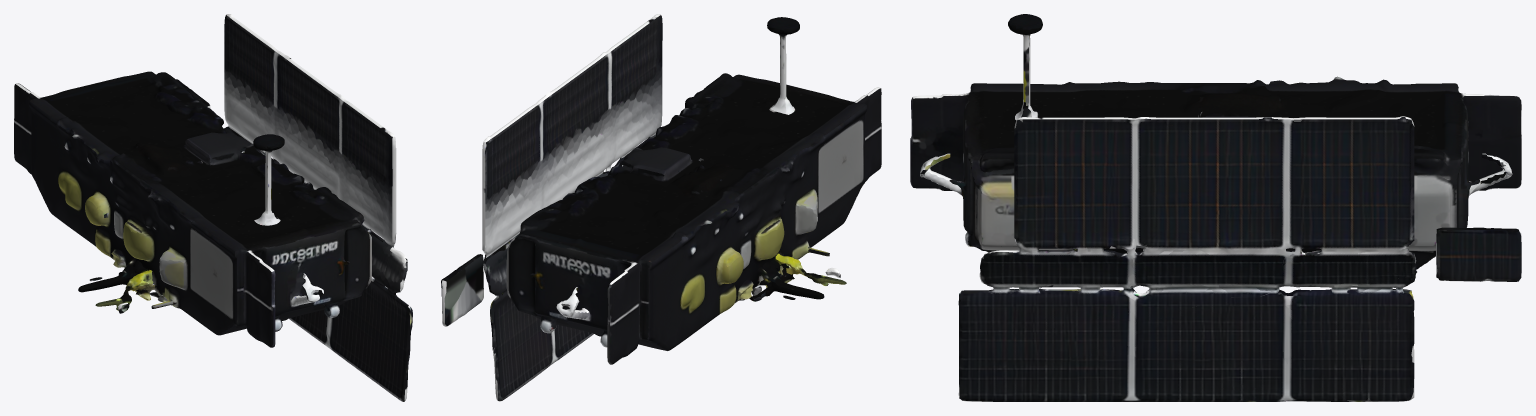
Rendered from fam_starlink_v1.glb.
3 views of the same model, side by side, from view 1: azimuth 30°, elevation 25°; view 2: azimuth 150°, elevation 25°; view 3: azimuth 270°, elevation 25° (orthographic). The views are drawn at different scales.
Parts seen in each view (by area): view 1: tmphj3m7864.ply; view 2: tmphj3m7864.ply; view 3: tmphj3m7864.ply.
Boxes of the visible parts, x1,y1,x2,y2 form: tmphj3m7864.ply: (14,14,412,401); tmphj3m7864.ply: (441,14,881,401); tmphj3m7864.ply: (910,14,1521,401).
Bounding box in the file's own units: 0.5313 × 0.5694 × 0.9903.
1 material, 1 textured.
